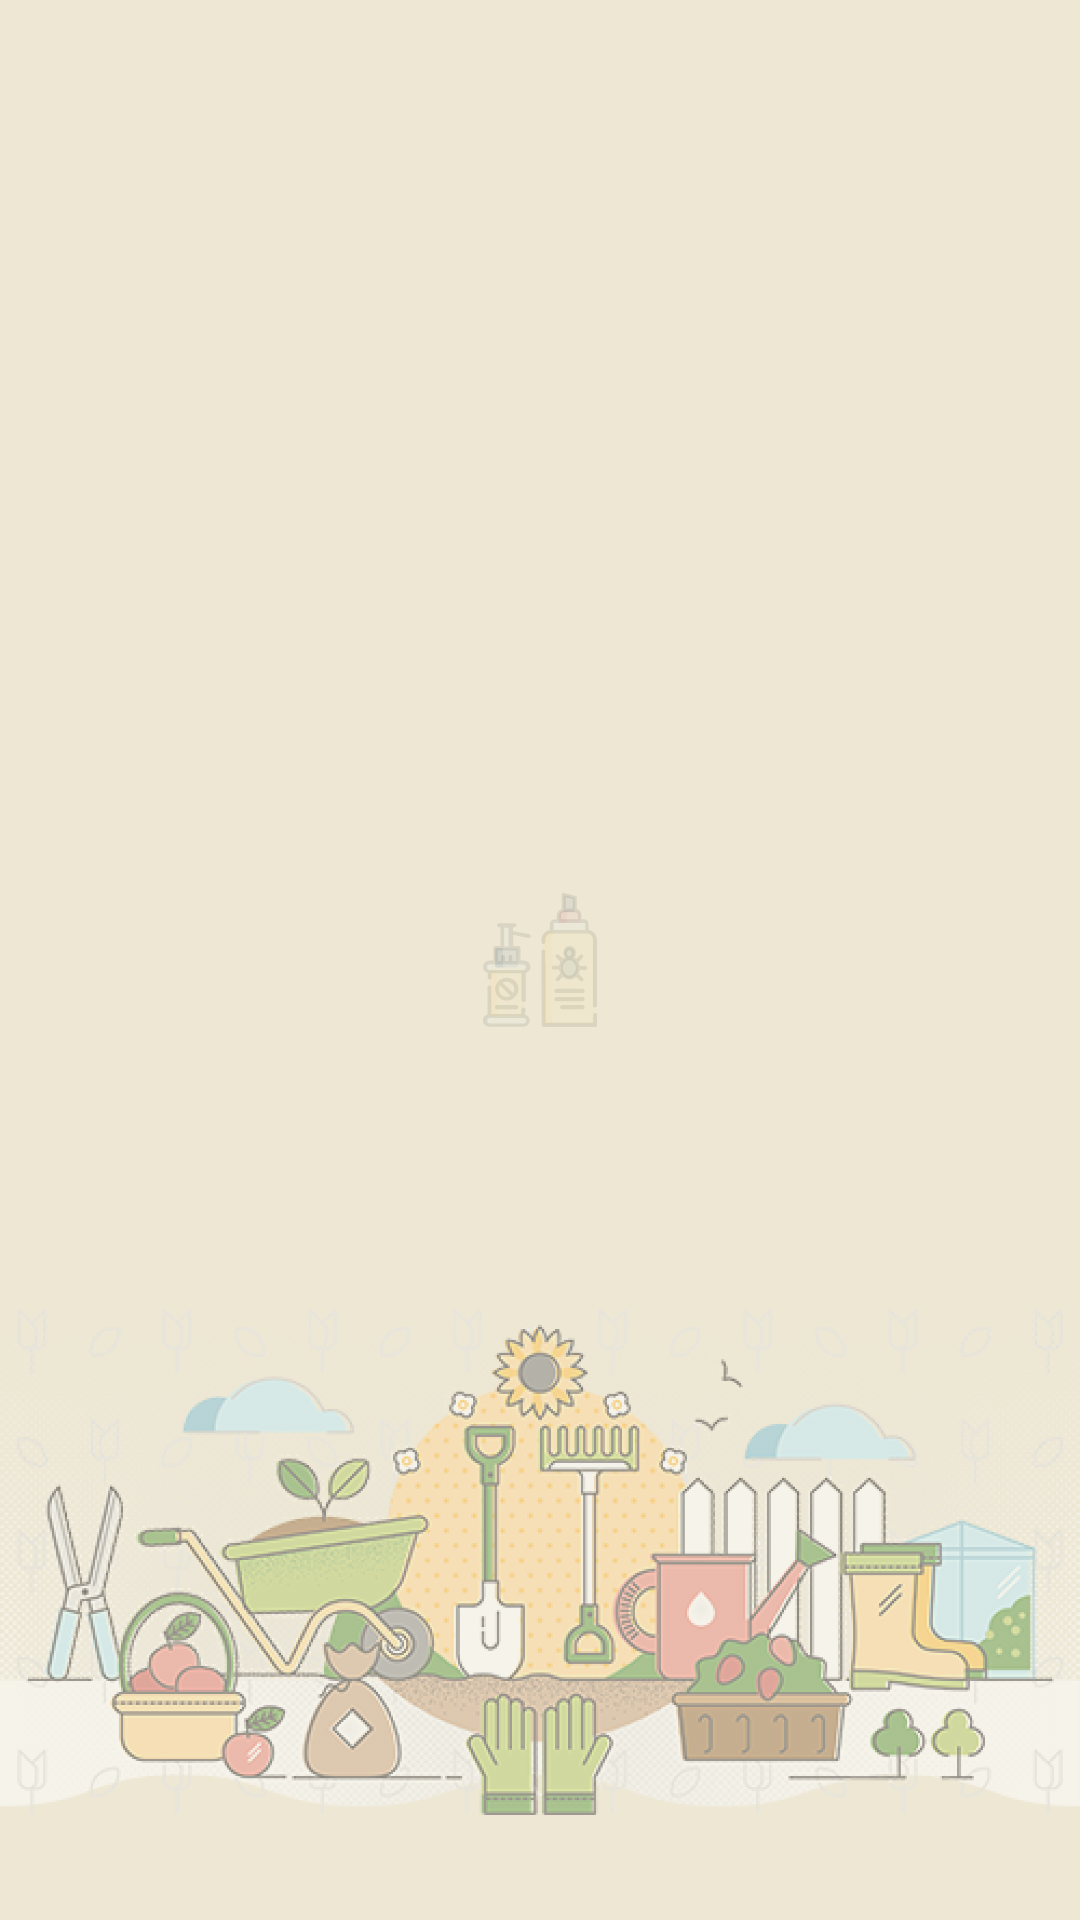

Screen size 1080px×1920px. Icon name, then its box in pixels as Rect(x1, y1, x2, y2):
insecticide: Rect(490, 895, 580, 1025)
